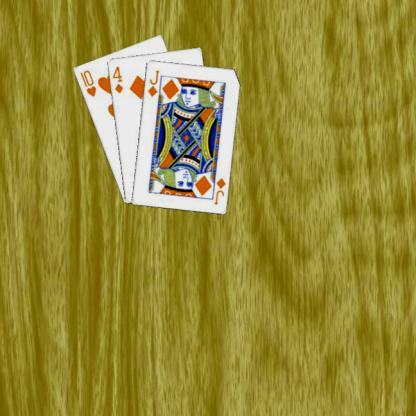10H: (77, 67, 98, 98)
4D: (110, 63, 124, 94)
JD: (211, 174, 227, 206), (144, 68, 160, 99)
